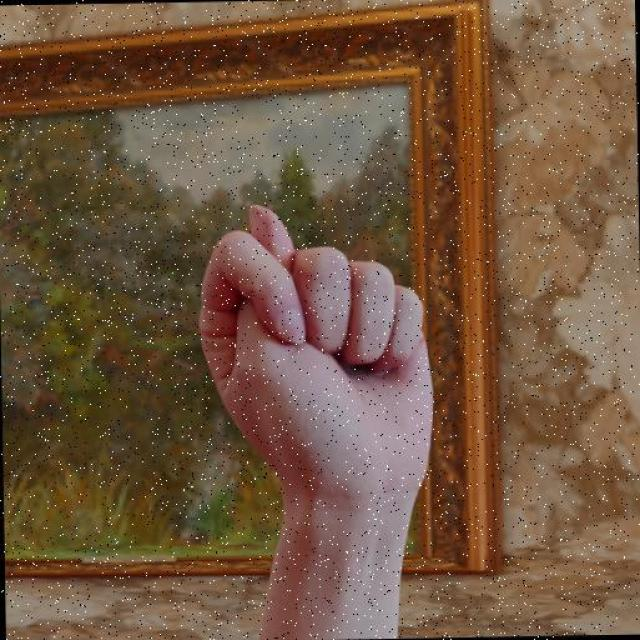T: (192, 198, 444, 498)
